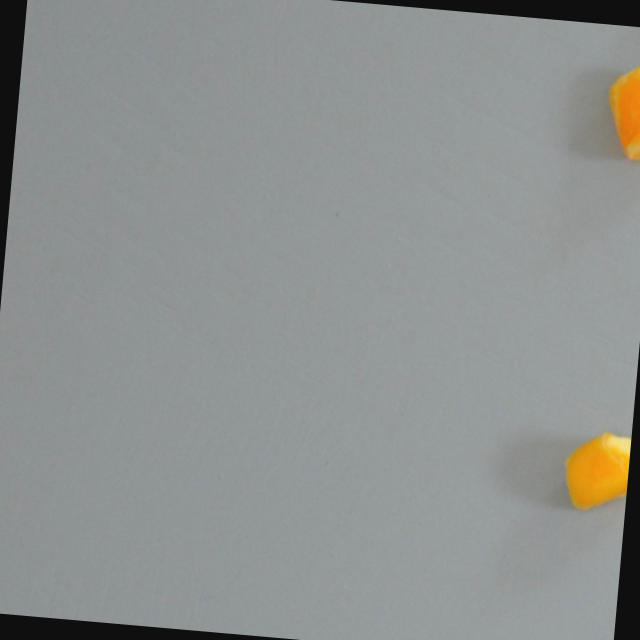pelicula: (556, 408, 633, 525), (595, 55, 640, 169)
